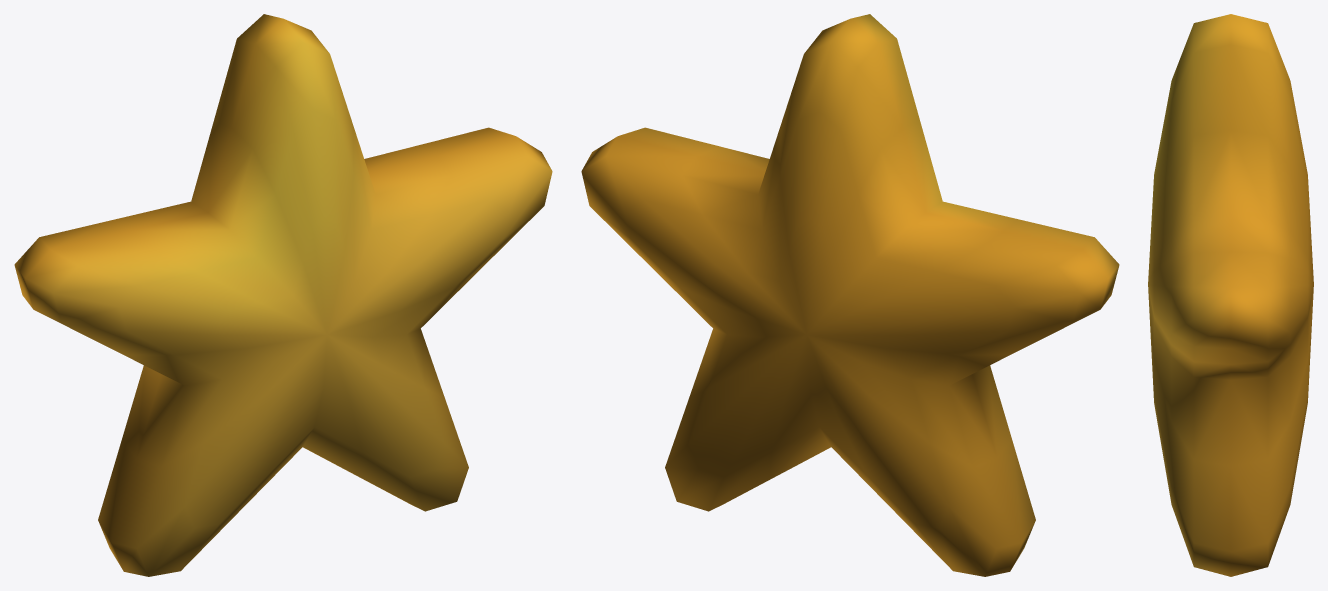
File: Star.fbx
3 views of the same model, side by side, from view 1: azimuth 30°, elevation 25°; view 2: azimuth 150°, elevation 25°; view 3: azimuth 270°, elevation 25° (orthographic). The views are drawn at different scales.
Parts seen in each view (by area): view 1: Star; view 2: Star; view 3: Star.
Boxes of the visible parts, x1=… form: Star: x1=14, y1=14, x2=552, y2=576; Star: x1=581, y1=14, x2=1119, y2=576; Star: x1=1148, y1=14, x2=1313, y2=576.
Bounding box in the file's own units: 0.4922 × 0.47 × 0.144.
